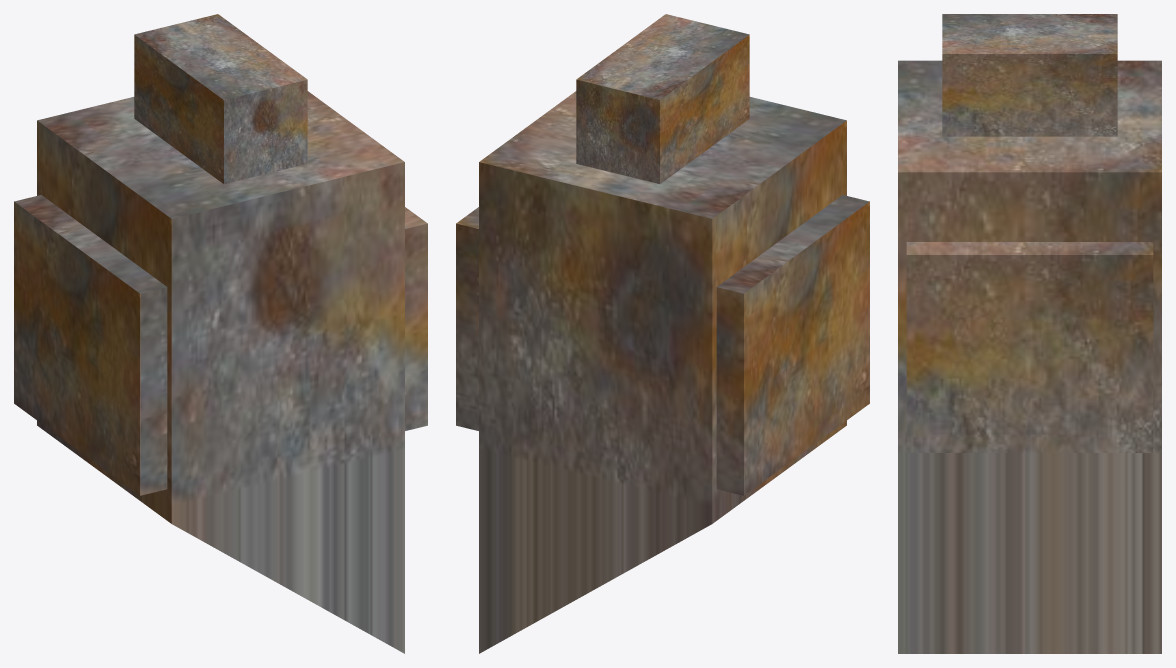
The model's file is Cab.obj.
3 views of the same model, side by side, from view 1: azimuth 30°, elevation 25°; view 2: azimuth 150°, elevation 25°; view 3: azimuth 270°, elevation 25° (orthographic). The views are drawn at different scales.
Visible parts, largest first — view 1: Cube, Cube.001, Cube.002; view 2: Cube, Cube.001, Cube.002; view 3: Cube, Cube.001, Cube.002.
Part boxes in pixels (box(x1,y1,x2,y2)): Cube: box(37, 91, 404, 653); Cube.001: box(14, 195, 427, 495); Cube.002: box(134, 14, 307, 183); Cube: box(479, 91, 846, 653); Cube.001: box(456, 195, 869, 495); Cube.002: box(576, 14, 749, 183); Cube: box(898, 60, 1161, 653); Cube.001: box(906, 242, 1153, 452); Cube.002: box(942, 14, 1117, 136).
Size of the model in its own units: 99.99 by 191 by 81.03.
